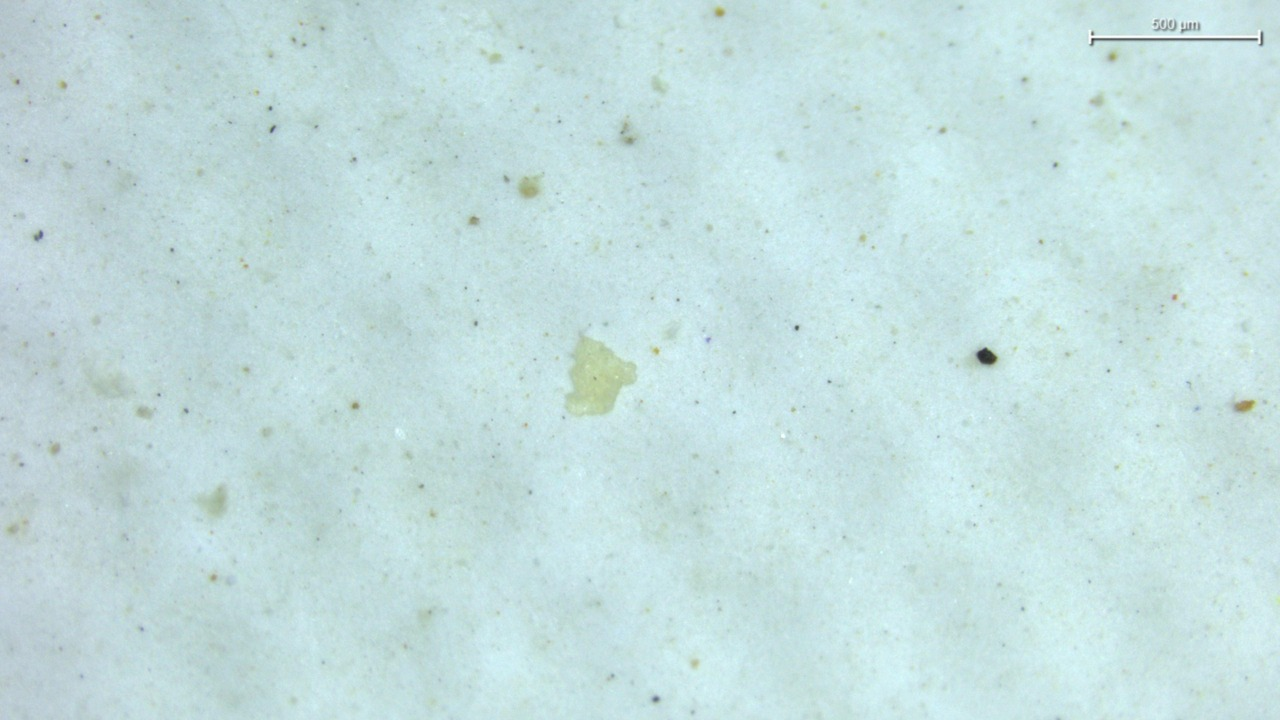microplastic_fragment: (566, 336, 635, 416)
